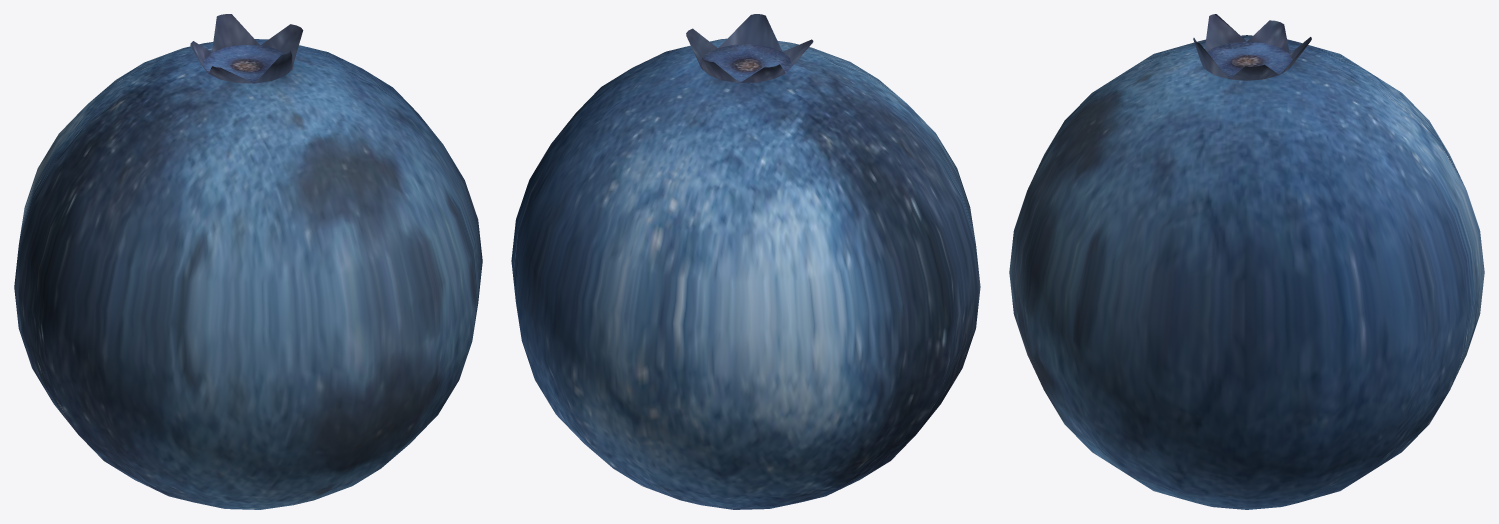
Rendered from blueberry.fbx.
3 views of the same model, side by side, from view 1: azimuth 30°, elevation 25°; view 2: azimuth 150°, elevation 25°; view 3: azimuth 270°, elevation 25° (orthographic).
Visible parts, largest first — view 1: blueberry; view 2: blueberry; view 3: blueberry.
Boxes of the visible parts, <box> form: blueberry: <box>14,14,482,509</box>; blueberry: <box>511,14,980,509</box>; blueberry: <box>1009,14,1484,509</box>.
Size of the model in its own units: 0.0497 by 0.0523 by 0.0497.
